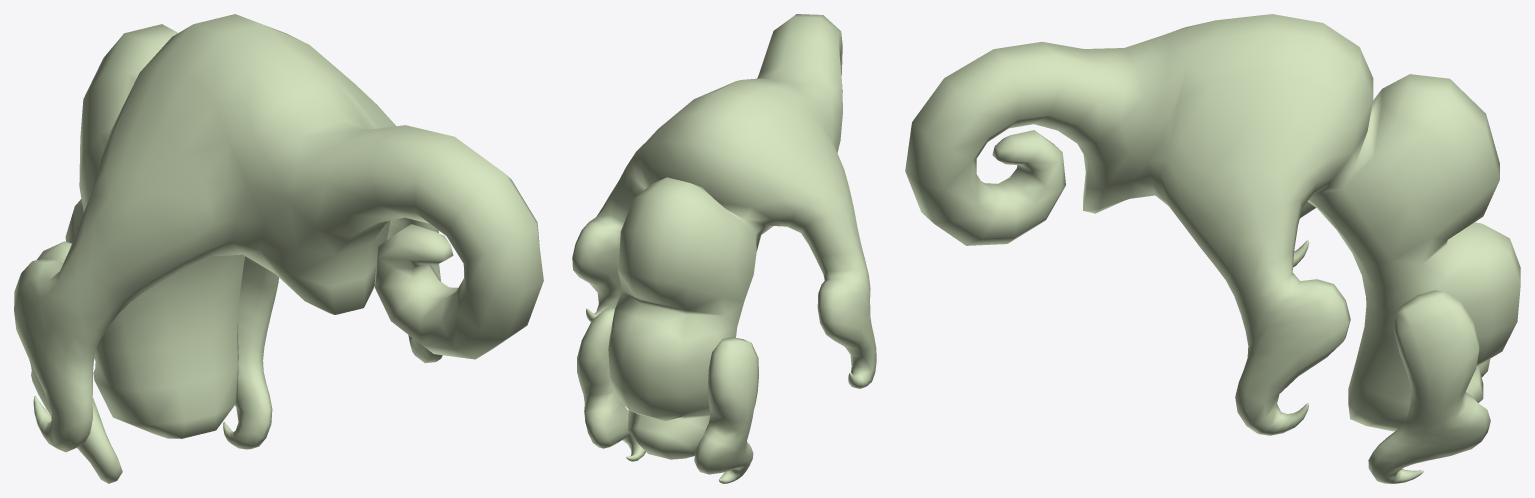
Rendered from Mane_05.fbx.
3 views of the same model, side by side, from view 1: azimuth 30°, elevation 25°; view 2: azimuth 150°, elevation 25°; view 3: azimuth 270°, elevation 25° (orthographic). The views are drawn at different scales.
Parts seen in each view (by area): view 1: Mane_05; view 2: Mane_05; view 3: Mane_05.
Boxes of the visible parts, <box> form: Mane_05: <box>14,14,543,483</box>; Mane_05: <box>572,14,876,483</box>; Mane_05: <box>905,14,1520,483</box>.
Bounding box in the file's own units: 161 × 186 × 241.
